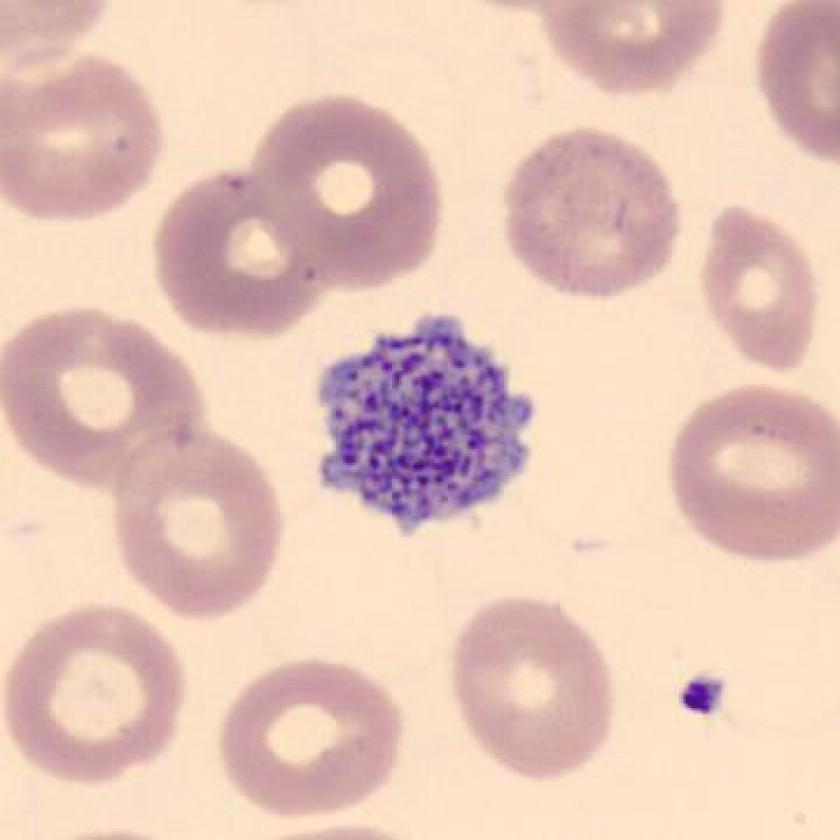platelets: (300, 304, 547, 545), (661, 651, 734, 737)
